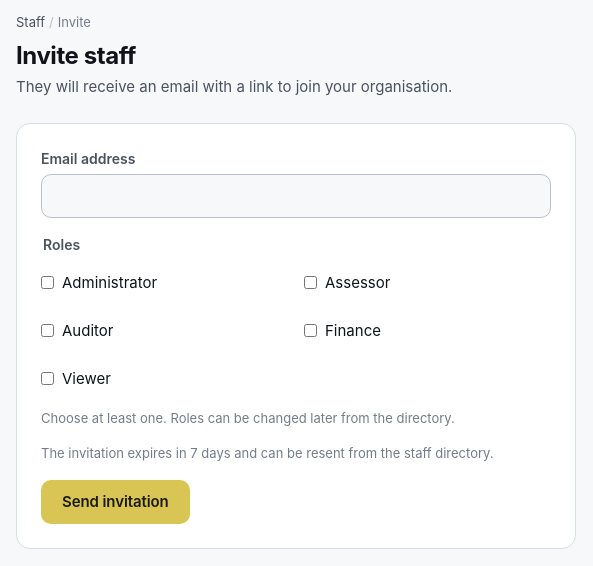
Test: InviteStaffPage › sends the invitation and shows the success state
This screenshot has width=593, height=566.
Type "new@example.com" into the field labelled "Email address" at (296, 196), box [41,174,551,218]
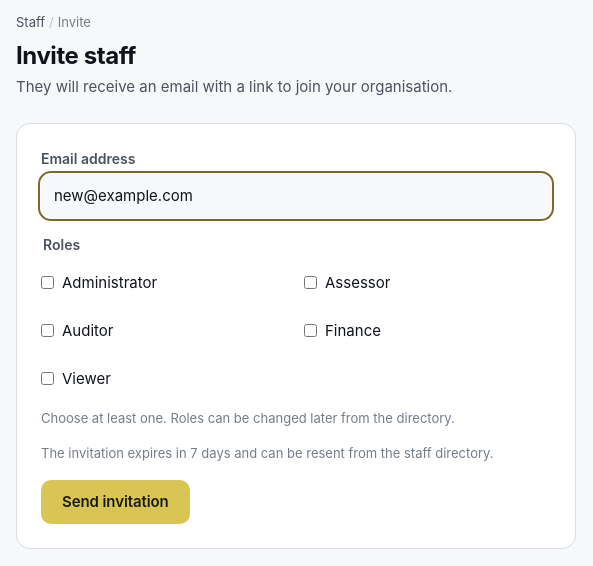
Click the checkbox labelled "Assessor" at (310, 283), box [304,276,317,289]
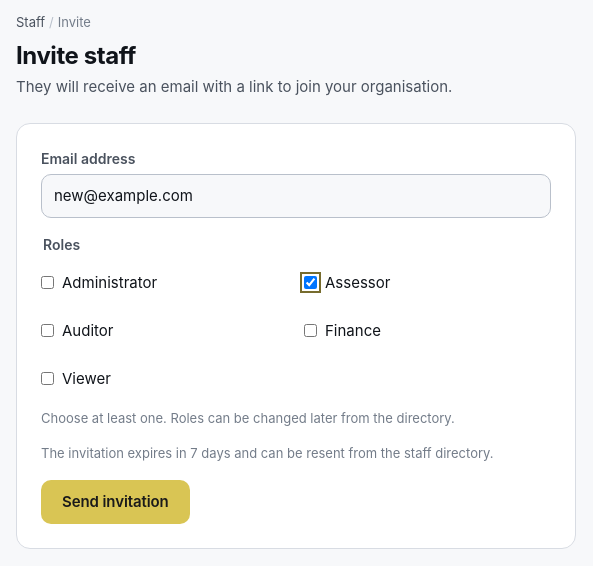
Click the button "Send invitation" at (115, 502), box [41,480,190,524]
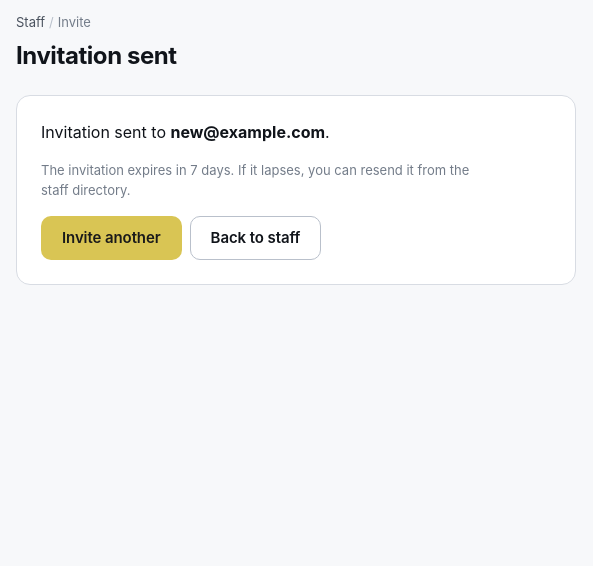
Expected: the heading "Invitation sent" is shown, [16,41,177,71]
